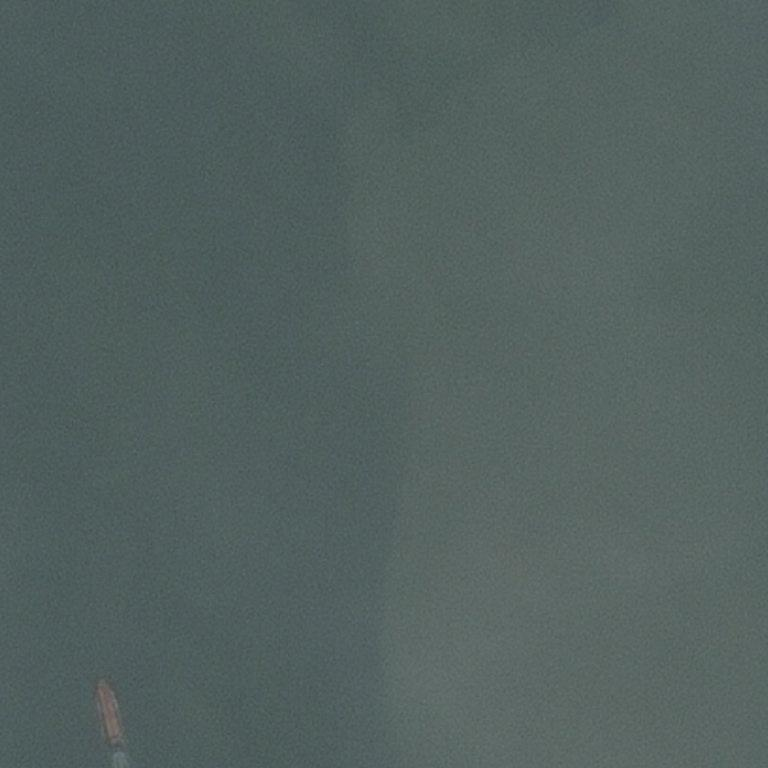ship: (14, 713, 64, 716), (121, 735, 127, 741), (109, 741, 114, 746), (96, 679, 101, 682)
